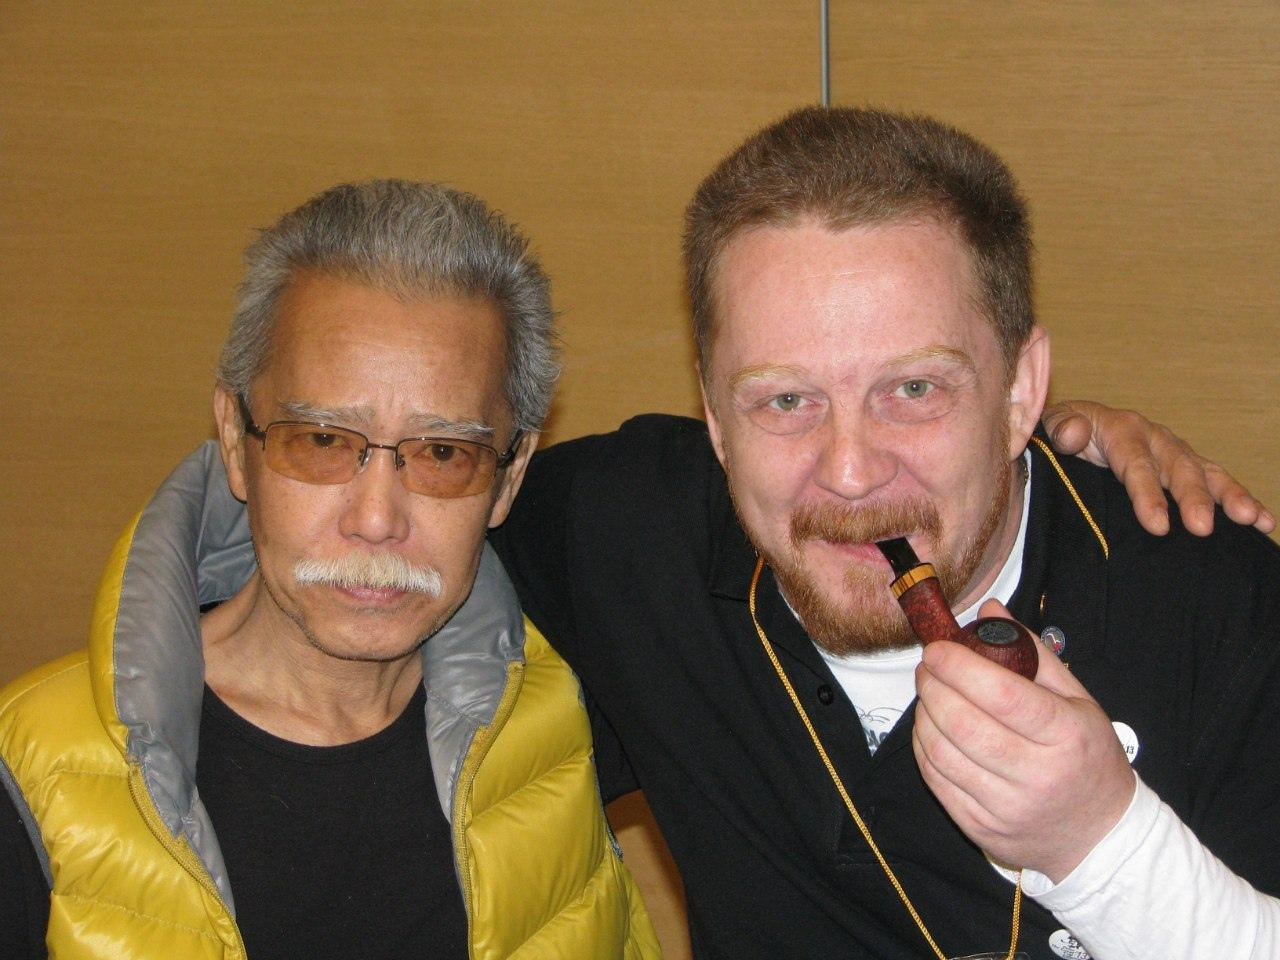trubka: (877, 537, 1037, 678)
